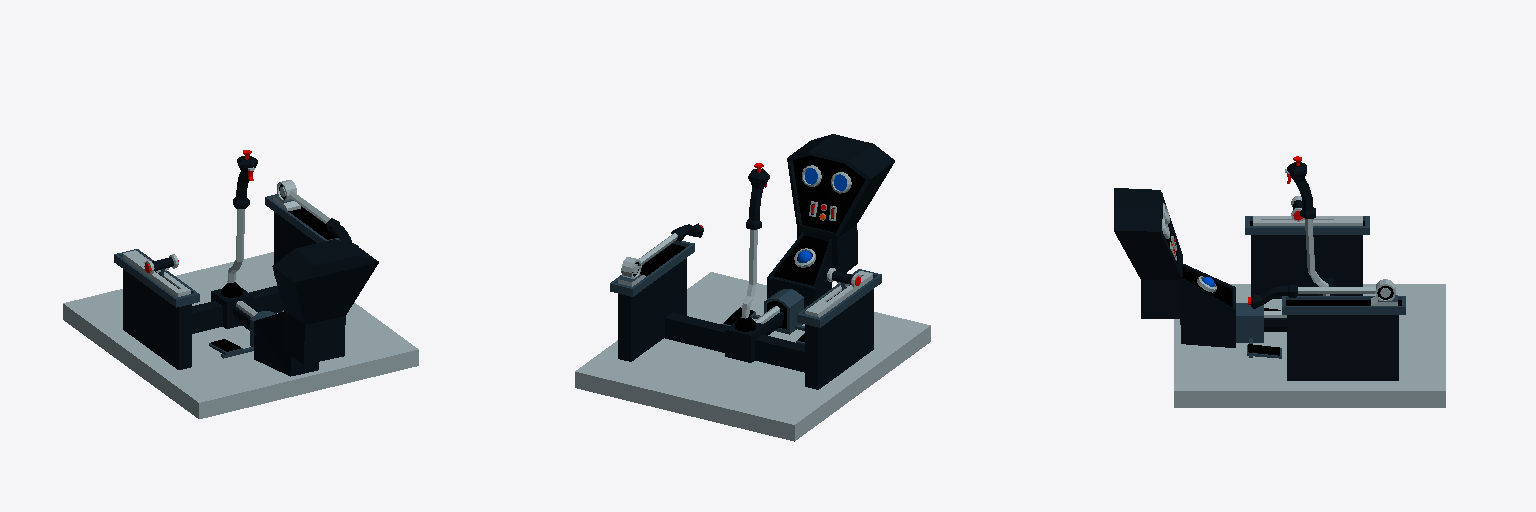
3 views of the same model, side by side, from view 1: azimuth 30°, elevation 25°; view 2: azimuth 150°, elevation 25°; view 3: azimuth 270°, elevation 25° (orthographic).
Visible parts, largest first — view 1: group[number redacted], group[number redacted], group[number redacted], group[number redacted], group[number redacted], group[number redacted], group[number redacted], group[number redacted]; view 2: group[number redacted], group[number redacted], group[number redacted], group[number redacted], group[number redacted], group[number redacted], group[number redacted], group[number redacted]; view 3: group[number redacted], group[number redacted], group[number redacted], group[number redacted], group[number redacted], group[number redacted], group[number redacted].
Boxes of the visible parts, x1=… form: group[number redacted]: x1=63, y1=252, x2=418, y2=418; group[number redacted]: x1=209, y1=239, x2=378, y2=376; group[number redacted]: x1=123, y1=269, x2=191, y2=369; group[number redacted]: x1=265, y1=180, x2=358, y2=275; group[number redacted]: x1=192, y1=286, x2=283, y2=333; group[number redacted]: x1=227, y1=155, x2=257, y2=282; group[number redacted]: x1=114, y1=249, x2=199, y2=307; group[number redacted]: x1=123, y1=250, x2=190, y2=296; group[number redacted]: x1=575, y1=272, x2=930, y2=441; group[number redacted]: x1=722, y1=134, x2=894, y2=362; group[number redacted]: x1=610, y1=223, x2=703, y2=361; group[number redacted]: x1=805, y1=289, x2=873, y2=389; group[number redacted]: x1=665, y1=313, x2=804, y2=372; group[number redacted]: x1=741, y1=168, x2=769, y2=318; group[number redacted]: x1=797, y1=269, x2=881, y2=327; group[number redacted]: x1=805, y1=271, x2=872, y2=317; group[number redacted]: x1=1174, y1=284, x2=1445, y2=407; group[number redacted]: x1=1114, y1=188, x2=1286, y2=358; group[number redacted]: x1=1248, y1=279, x2=1405, y2=380; group[number redacted]: x1=1251, y1=235, x2=1362, y2=298; group[number redacted]: x1=1287, y1=162, x2=1329, y2=295; group[number redacted]: x1=1245, y1=216, x2=1369, y2=234; group[number redacted]: x1=1253, y1=216, x2=1362, y2=225.
Bounding box in the file's own units: 4.04 × 3.44 × 5.3.